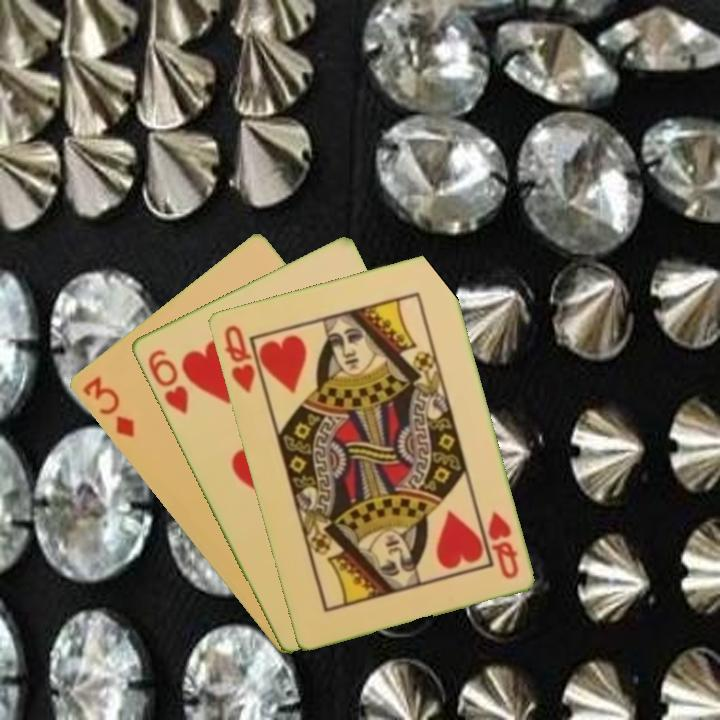3d: (78, 372, 137, 441)
6h: (143, 346, 191, 417)
Qh: (220, 321, 258, 396), (483, 507, 521, 582)
